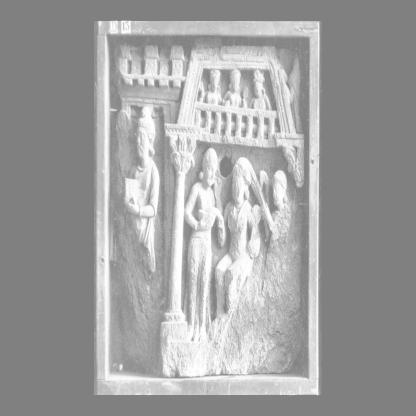buddha-sitting: (215, 159, 261, 316)
